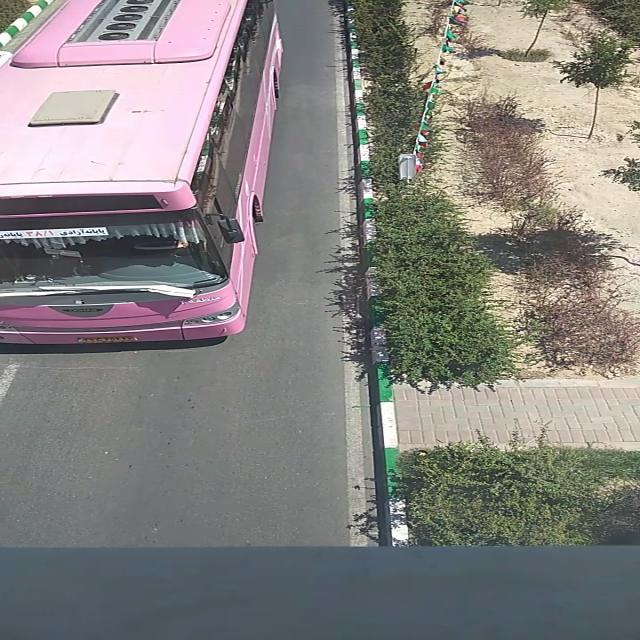bus: (0, 1, 283, 247)
